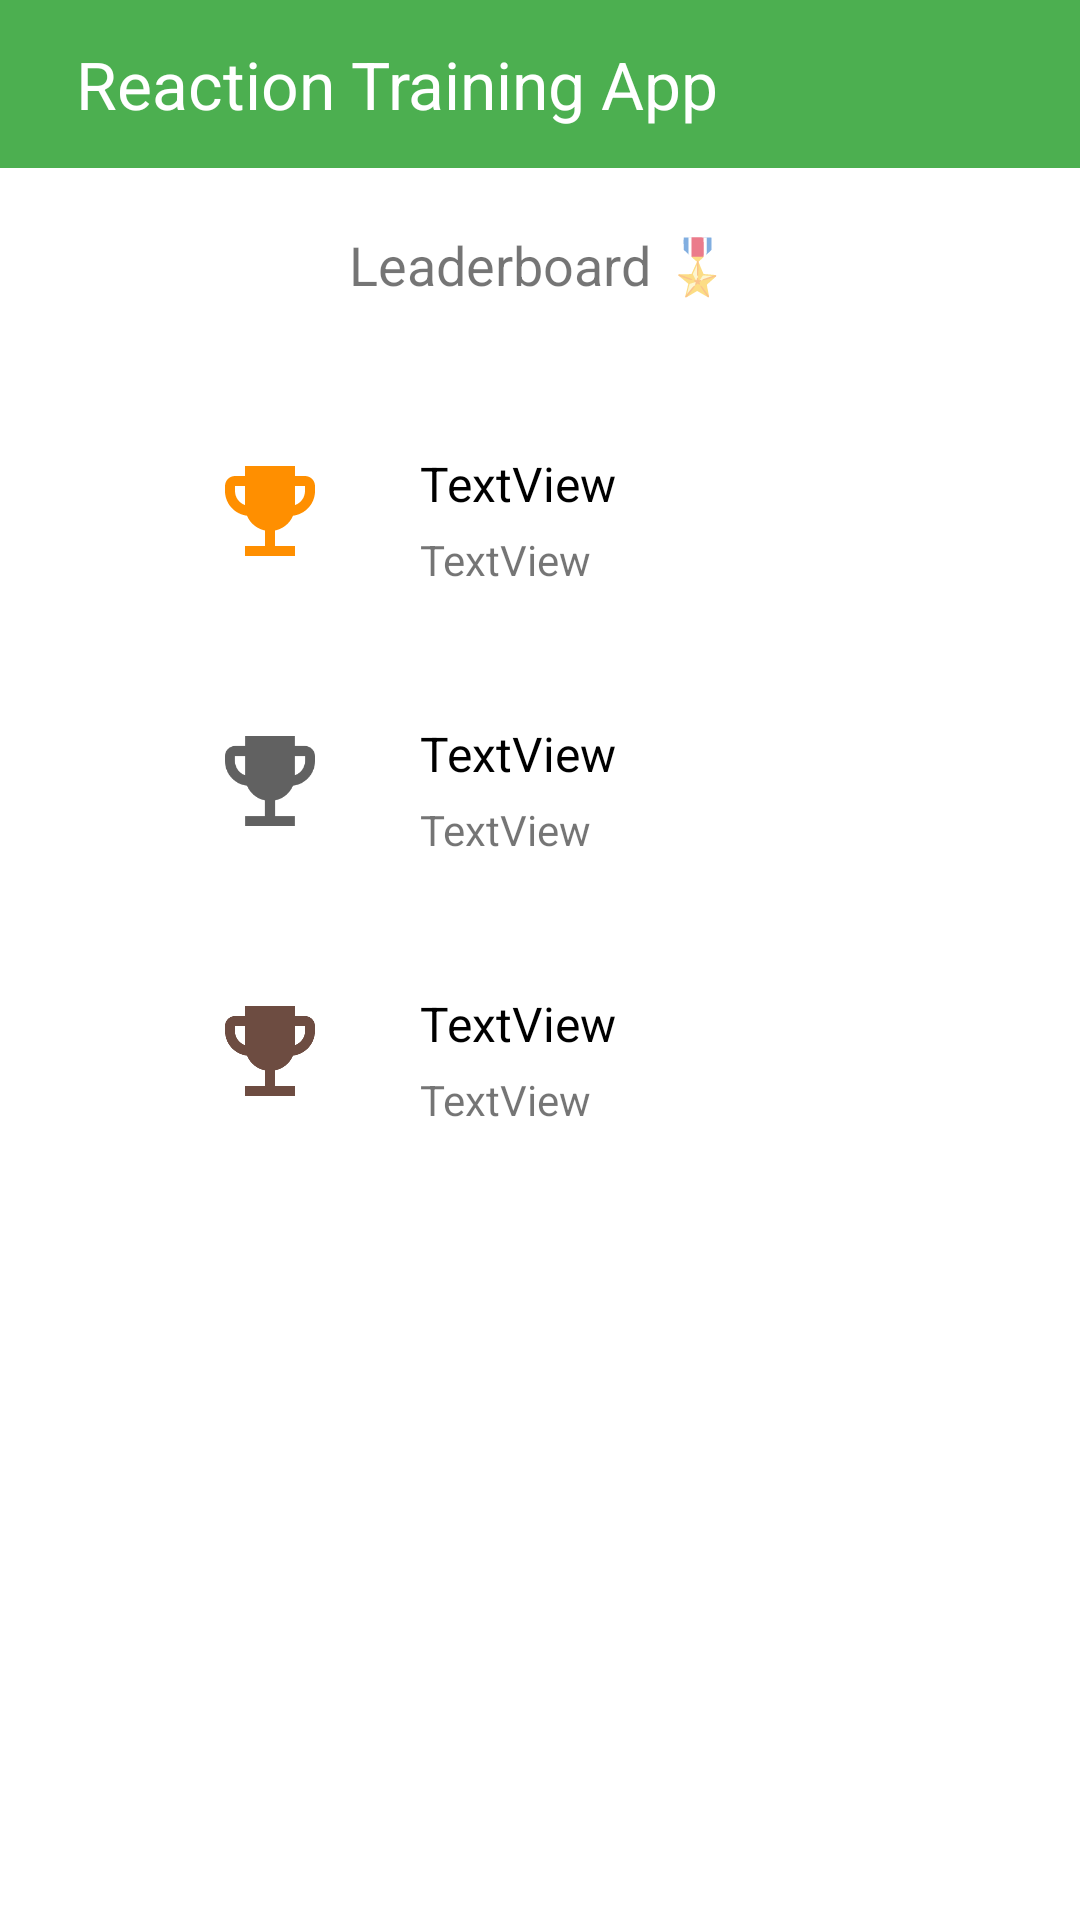

Icons on this 1080px×1920px Android screen, each with the point to tap as (x=x, y=y):
emoji events bronze: (x=270, y=1051)
emoji events gold: (x=270, y=511)
emoji events silver: (x=270, y=781)
